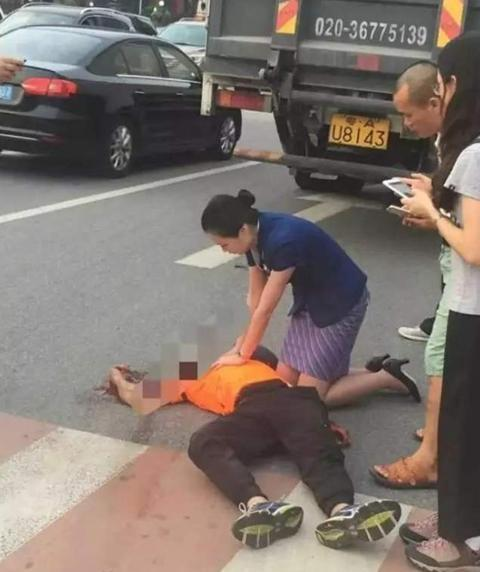Fall-Detected: (96, 325, 421, 553)
